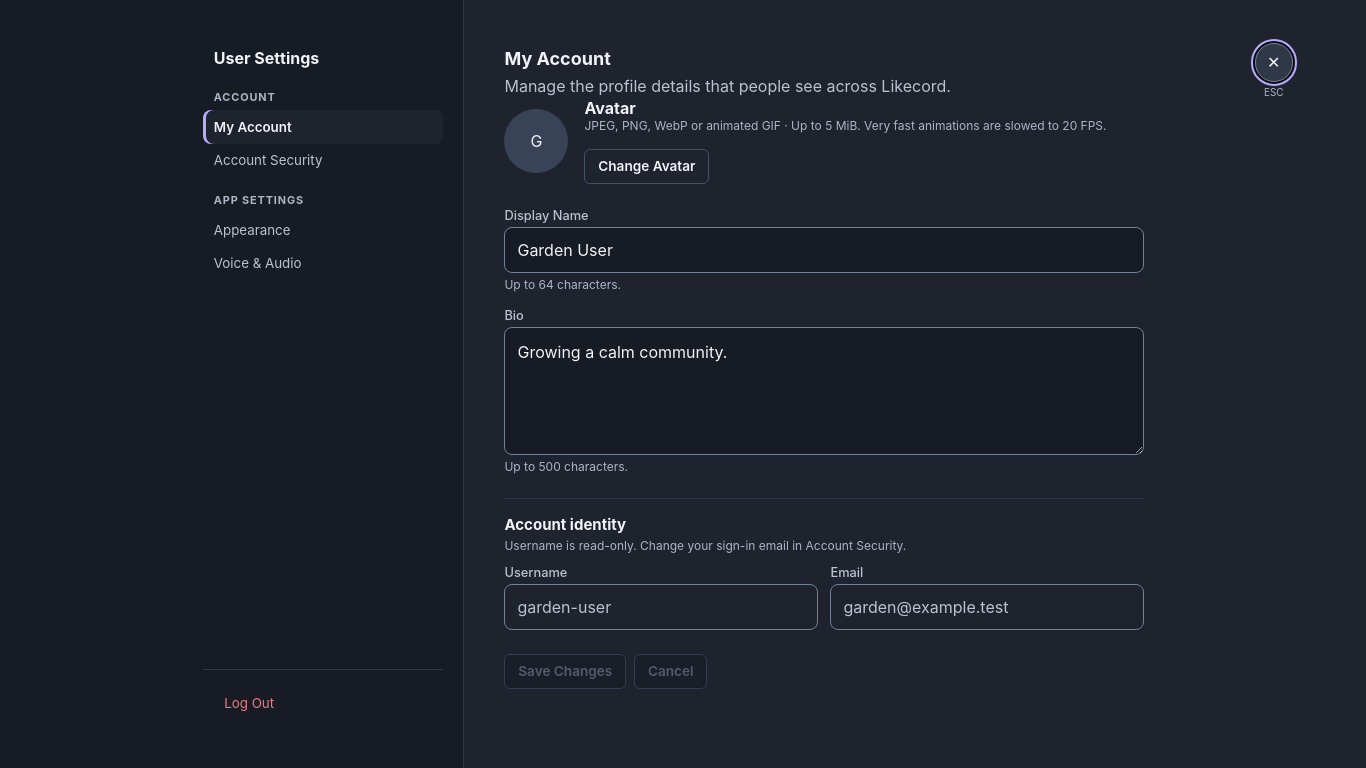
Test case: User Settings workspace › saves through the existing profile owner and reconciles its authoritative response
Replace the text in the field labelled "Display Name" with "New Name" at (824, 250), box 504,227 -> 1144,273
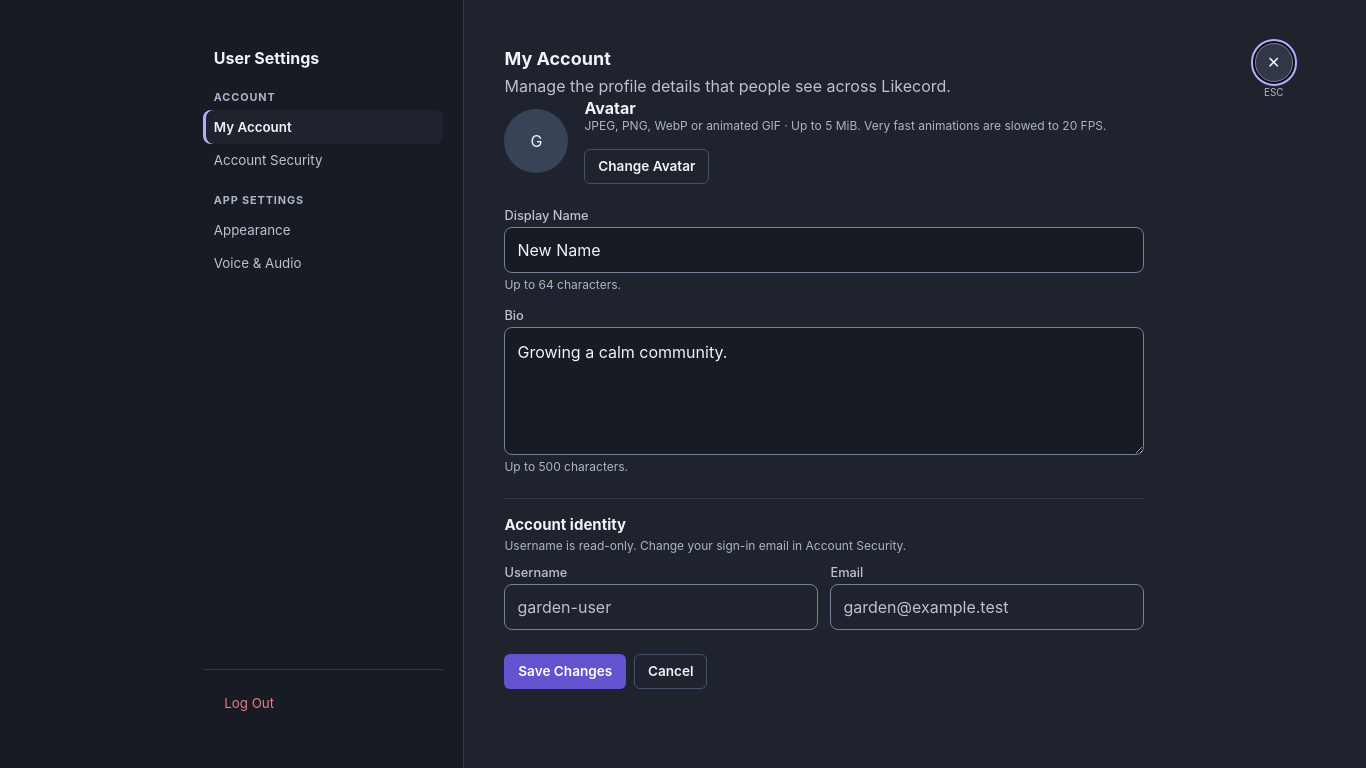
Replace the text in the text box labelled "Bio" with "New bio" at (824, 391), box 504,327 -> 1144,455
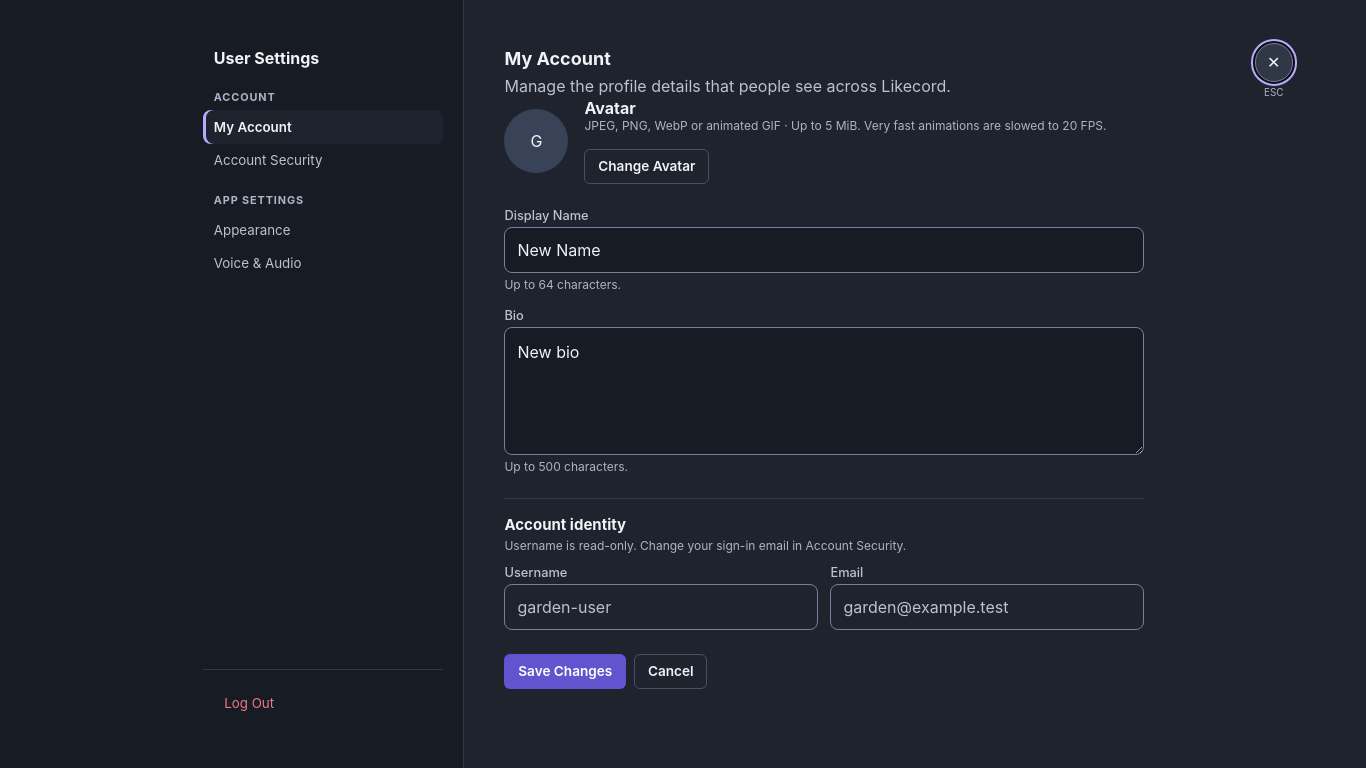
Click the button "Save Changes" at (565, 671), box 504,654 -> 626,689
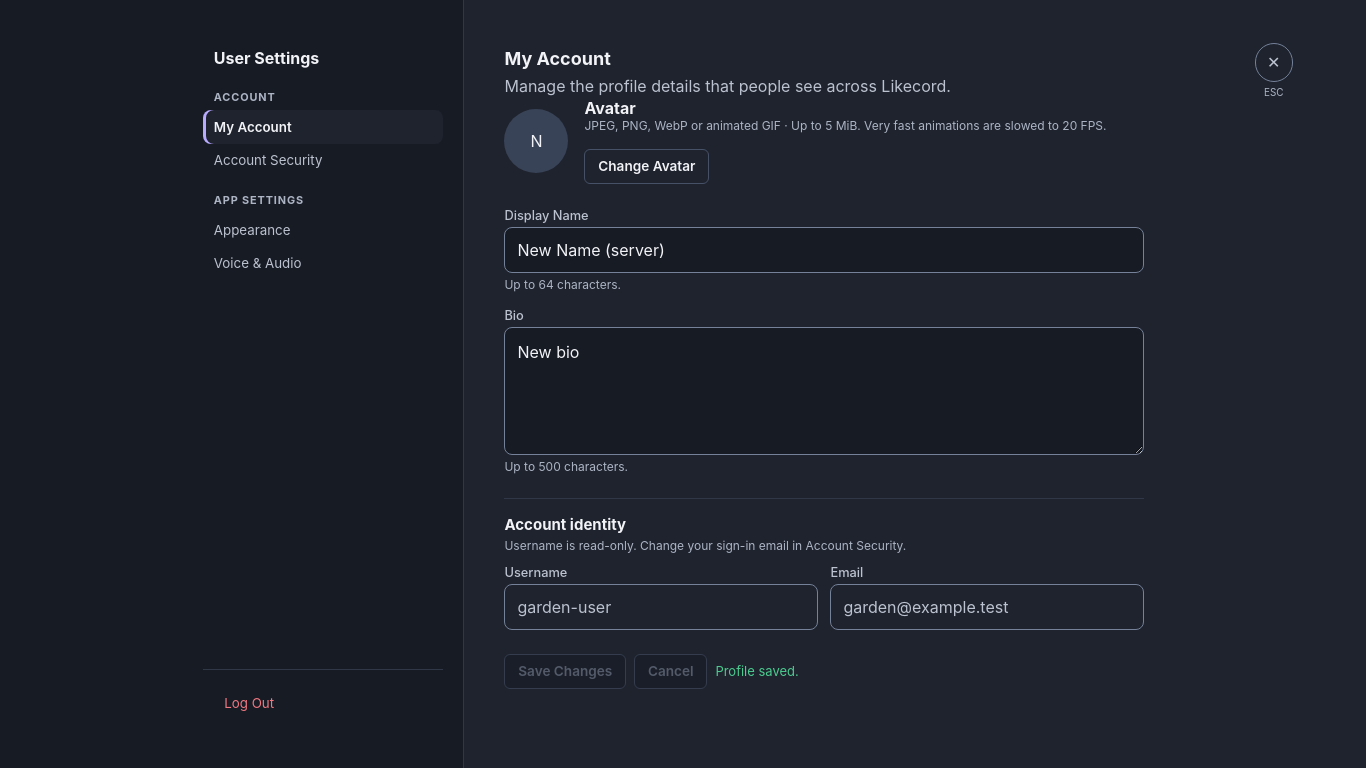
Result: the text "Profile saved." is shown at 715,663 -> 799,679
Result: the field labelled "Display Name" holds "New Name (server)" at 504,227 -> 1144,273
